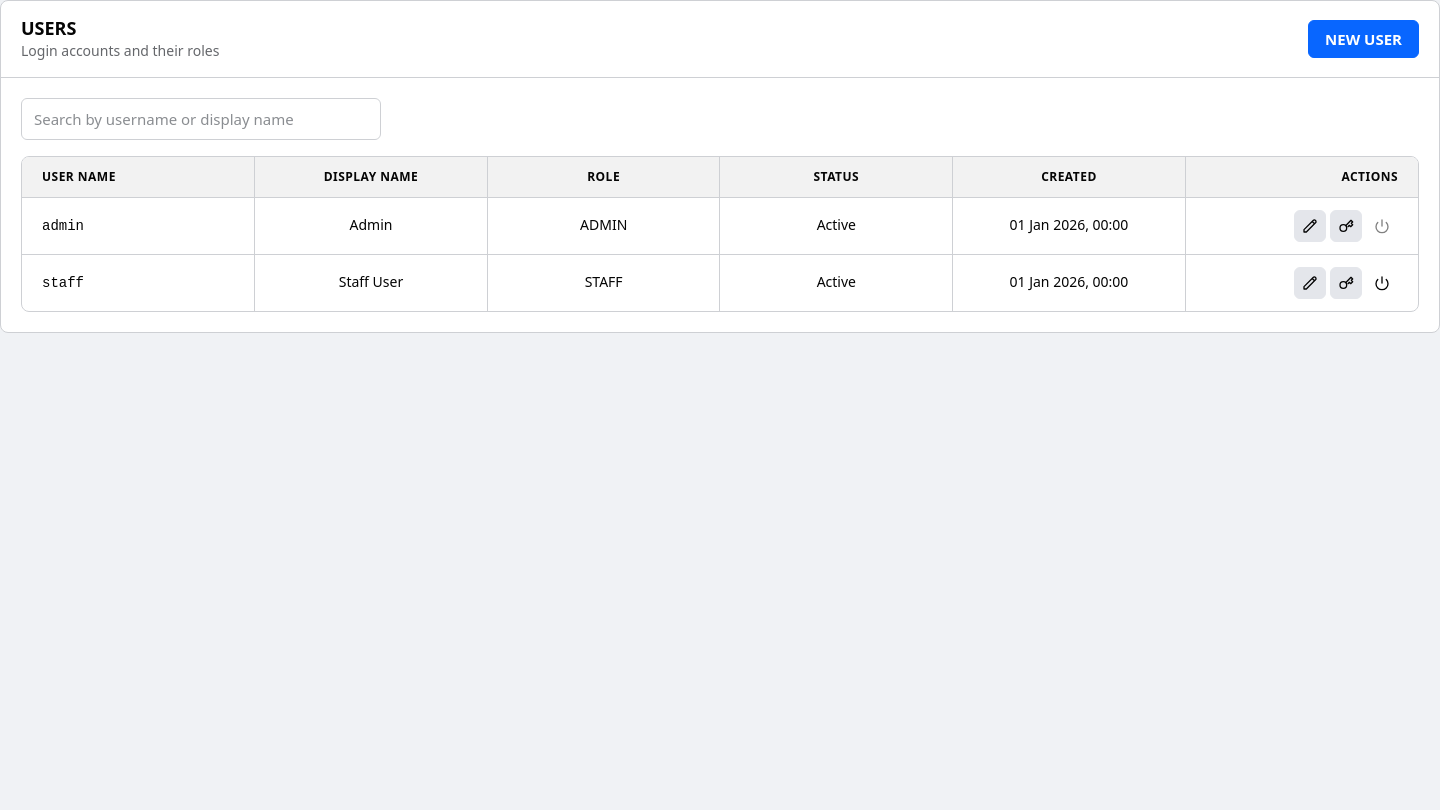
Test: UsersSection › opens the create modal
The image size is (1440, 810).
Expected: the text "admin" is shown, [42,218,84,234]
Click the button "New user" at (1364, 39), box [1308,20,1419,58]
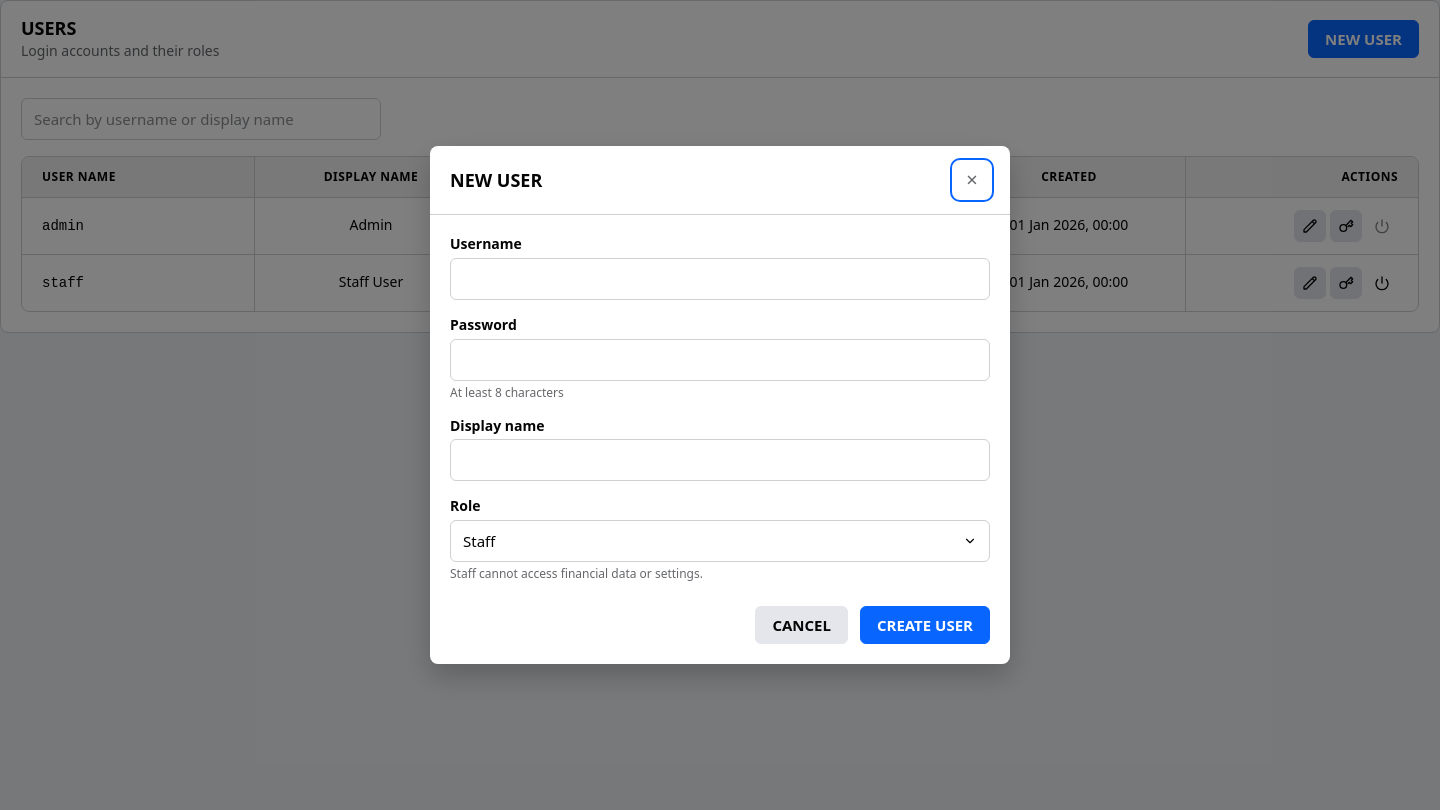
Now the field labelled "Username" is shown, box [450,258,990,300]
Now the password field labelled "Password" is shown, box [450,338,990,380]
